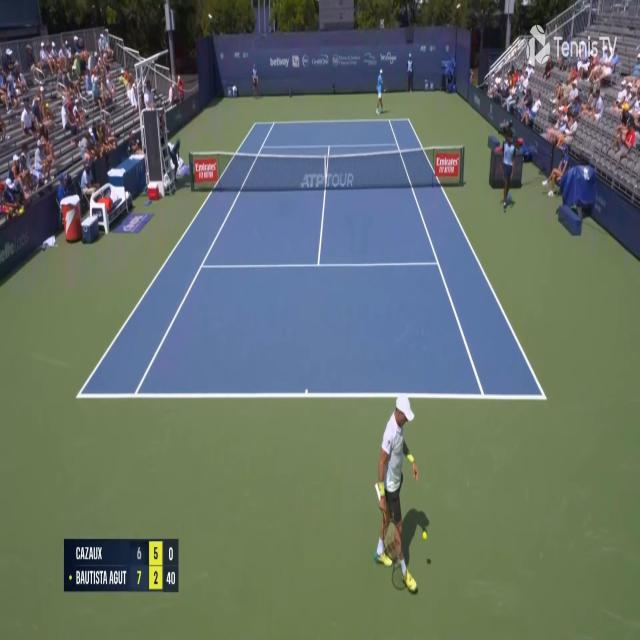tennis-player: (372, 390, 432, 595), (374, 67, 386, 116)
